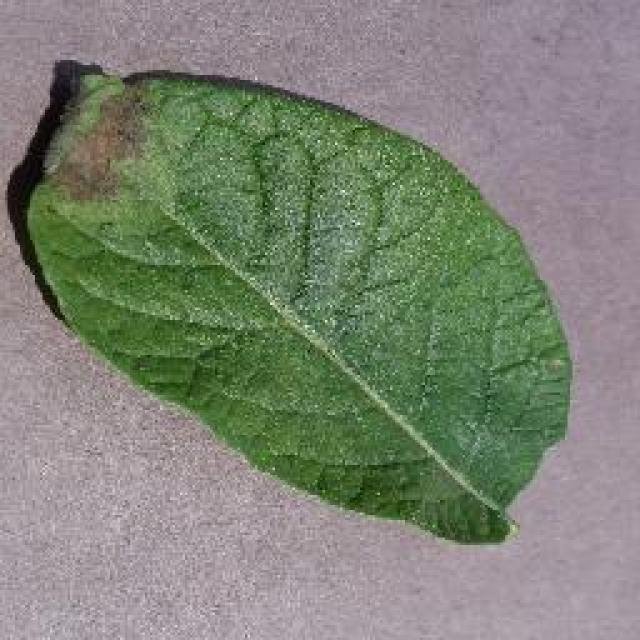late_blight: (5, 55, 577, 550)
